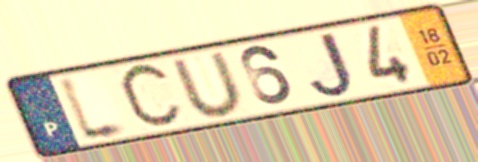4: (366, 21, 416, 88)
6: (237, 43, 298, 109)
C: (115, 59, 187, 134)
J: (307, 29, 357, 101)
L: (53, 71, 137, 146)
U: (167, 48, 250, 119)
